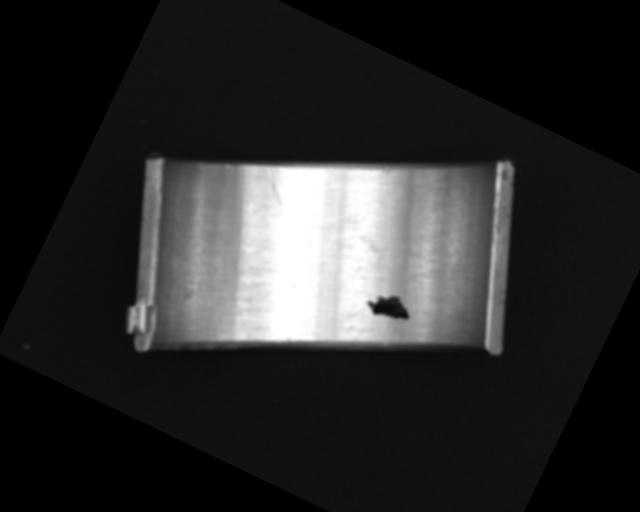blot: (346, 231, 413, 286), (361, 284, 416, 331)
bruise: (382, 164, 393, 176), (283, 333, 293, 343)
nick: (254, 163, 296, 207)
